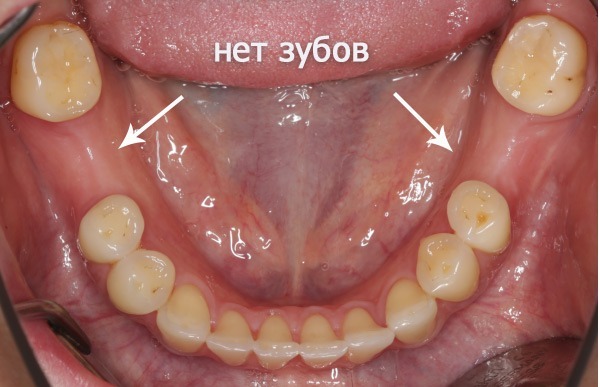LL1BC_healthy: (418, 237, 478, 300)
LL1M_decay: (471, 118, 542, 187)
LL2BC_decay: (448, 183, 510, 251)
LL2M_healthy: (493, 15, 567, 88)
LLCI_healthy: (301, 318, 344, 367)
LLC_healthy: (387, 283, 436, 342)
LLLI_healthy: (345, 309, 393, 359)
LR1BC_decay: (103, 253, 175, 311)
LR1M_decay: (46, 125, 122, 197)
LR2BC_decay: (82, 199, 141, 258)
LR2M_healthy: (16, 27, 100, 118)
LRCI_healthy: (256, 321, 299, 366)
LRC_healthy: (167, 289, 211, 348)
LRLI_healthy: (214, 312, 252, 361)
